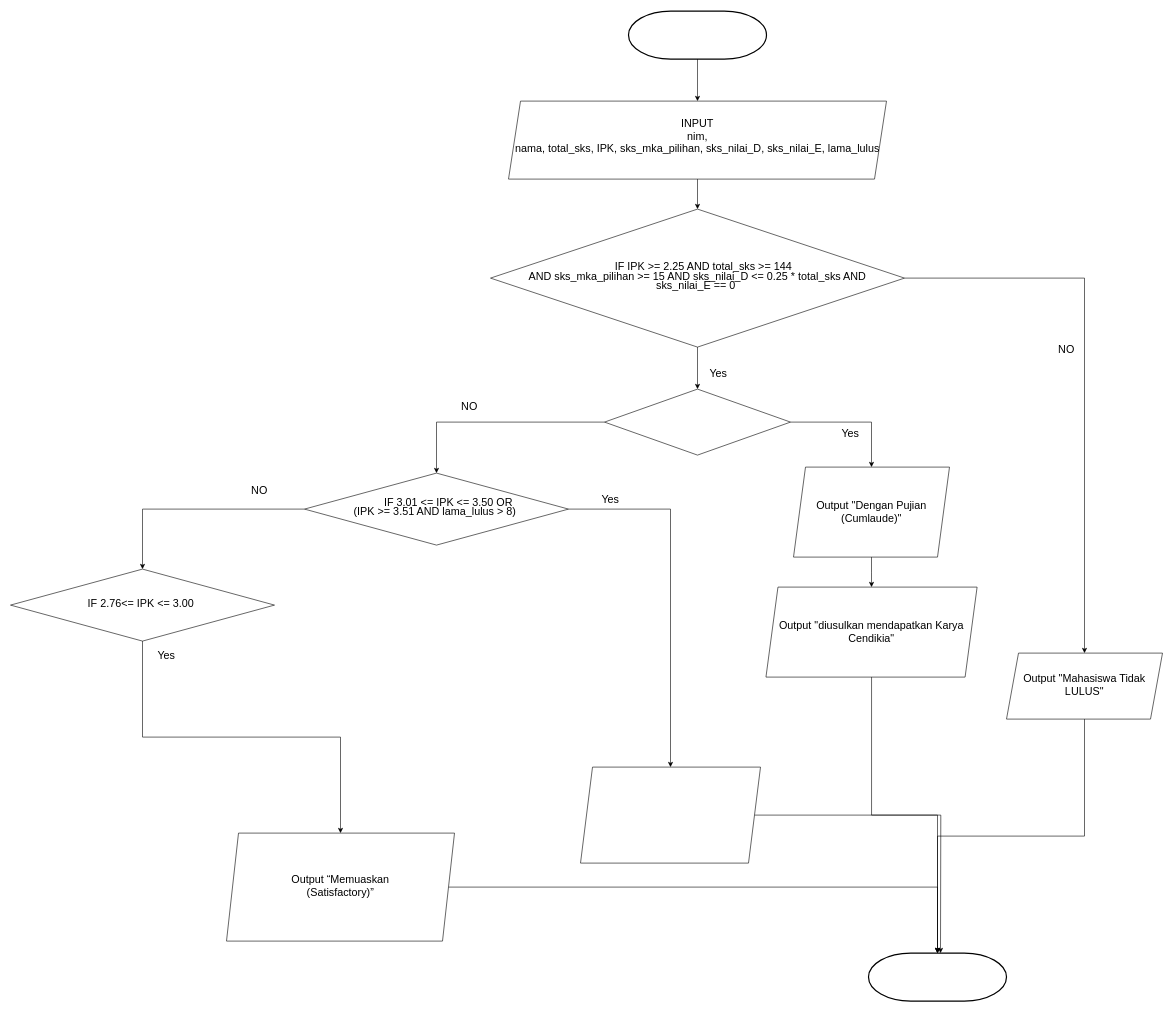
Some shapes in this 1173 by 1012 pixel diagram are drawn without their labels. The centre of each missing label's shape, as x and y in pixels:
"End" goes at (x=937, y=976).
"IF IPK >= 3.51 AND lama_lulus <= 8" goes at (x=697, y=421).
"Sangat Memuaskan (Very Satisfactory)" goes at (x=670, y=814).
"Start" goes at (x=697, y=34).
